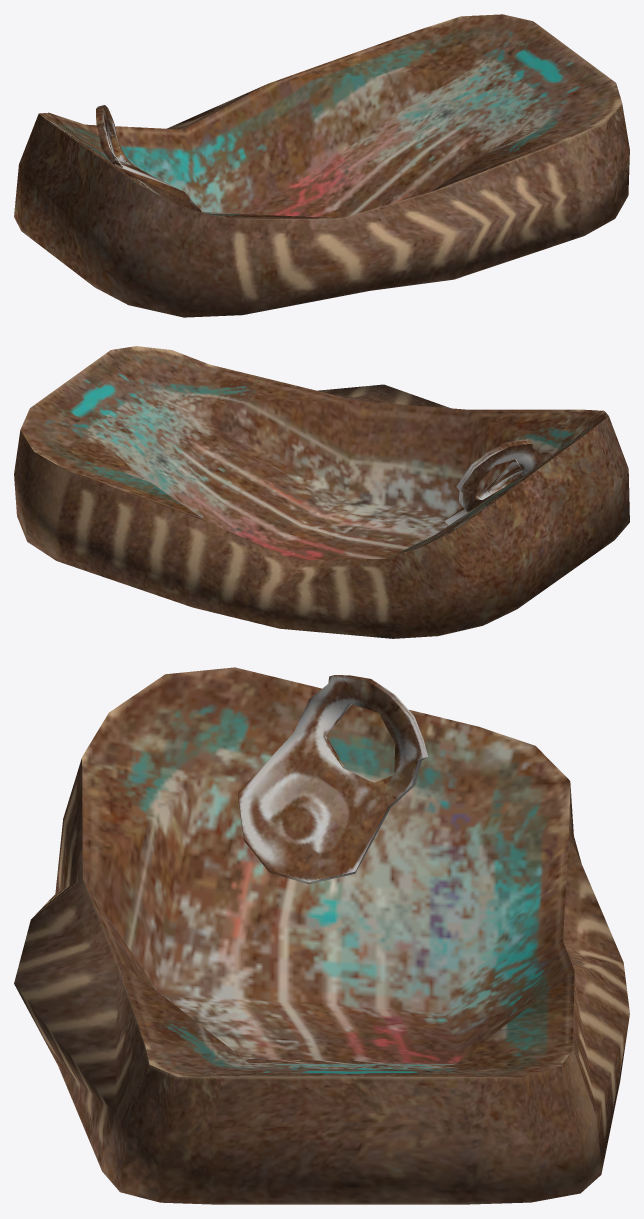
File: SM_TrashCan_05_G.fbx
3 renders of one model, top to bottom at view 1: azimuth 30°, elevation 25°; view 2: azimuth 150°, elevation 25°; view 3: azimuth 270°, elevation 25°, orthographic. The views are drawn at different scales.
Parts seen in each view (by area): view 1: SM_TrashCan_05_G; view 2: SM_TrashCan_05_G; view 3: SM_TrashCan_05_G.
Part boxes in pixels (<box>): SM_TrashCan_05_G: <box>14,14,629,317</box>; SM_TrashCan_05_G: <box>14,346,629,638</box>; SM_TrashCan_05_G: <box>14,667,629,1204</box>.
Size of the model in its own units: 19.03 by 13.45 by 6.09.
Materials: 1 (1 with a texture image).
